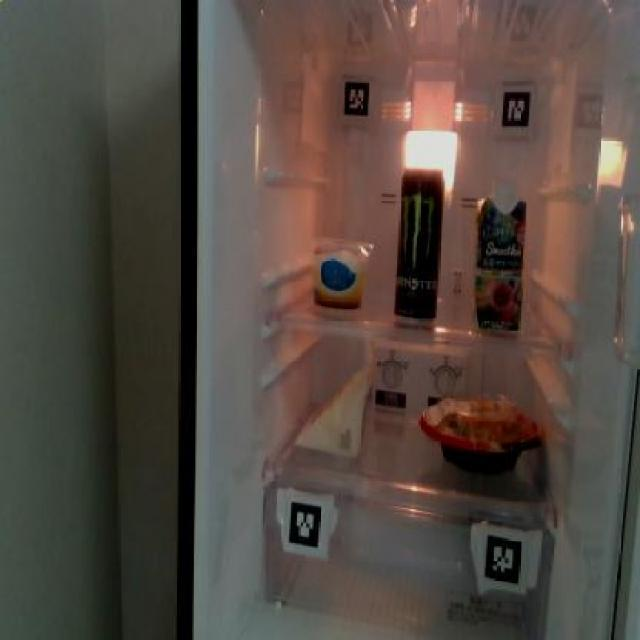bento: (420, 400, 545, 474)
can: (391, 167, 444, 321)
pudding: (311, 231, 371, 311)
sandwich: (292, 355, 372, 460)
smoothie: (471, 176, 527, 333)
